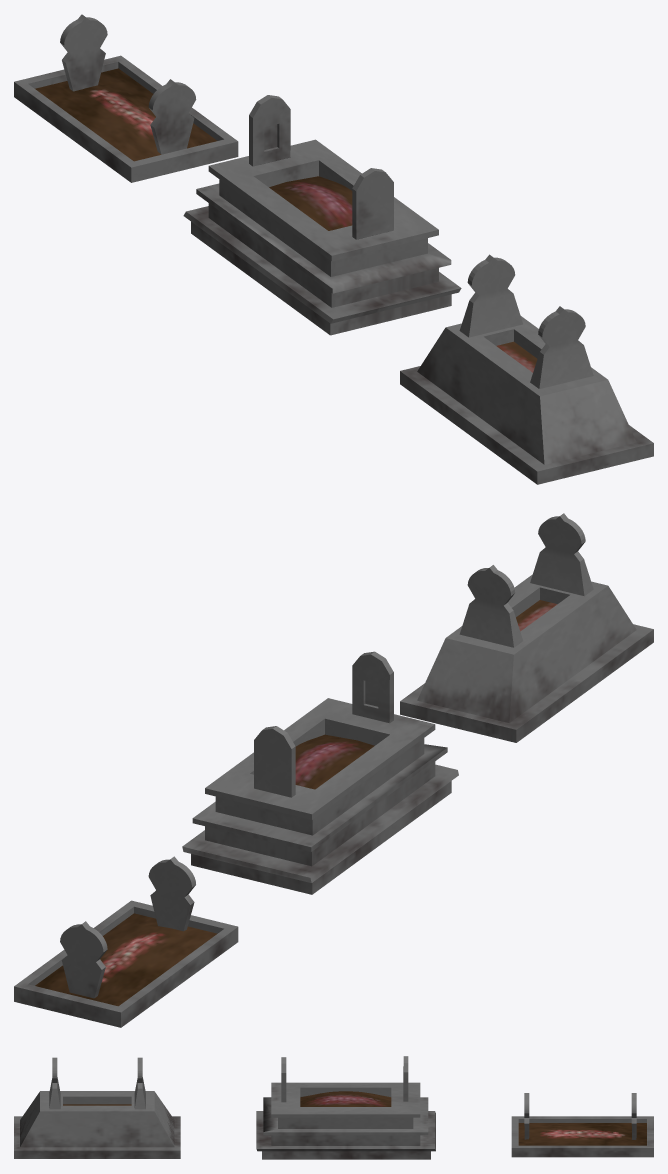
File: Kuburan.fbx
3 views of the same model, one above another, from view 1: azimuth 30°, elevation 25°; view 2: azimuth 150°, elevation 25°; view 3: azimuth 270°, elevation 25° (orthographic). The views are drawn at different scales.
Parts seen in each view (by area): view 1: Tomb 1, Tomb 2, Tomb 3; view 2: Tomb 1, Tomb 2, Tomb 3; view 3: Tomb 1, Tomb 2, Tomb 3.
Boxes of the visible parts, x1,y1,x2,y2 form: Tomb 1: (183,95,461,335); Tomb 2: (400,254,653,484); Tomb 3: (14,14,238,182); Tomb 1: (182,651,458,894); Tomb 2: (400,513,653,742); Tomb 3: (14,856,238,1027); Tomb 1: (256,1056,435,1159); Tomb 2: (14,1057,180,1158); Tomb 3: (511,1093,653,1157).
Size of the model in its own units: 172 by 175 by 1210.
